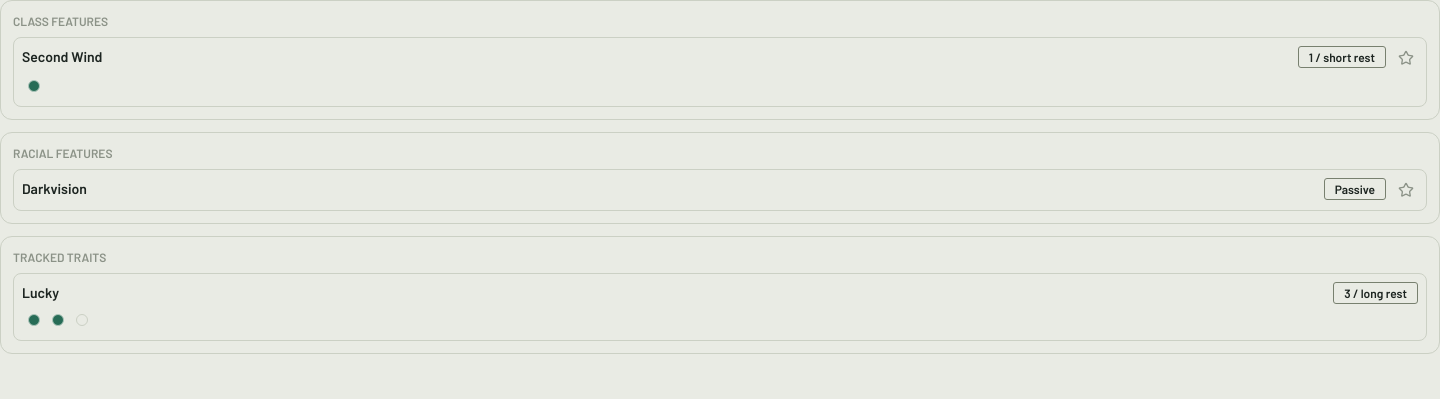
Test case: FeaturesTab › expands a description
What coordinates should you click on to do the following:
click the button "Darkvision Passive"
I would click on:
 (54, 188)
Its box is [22, 178, 1386, 200].
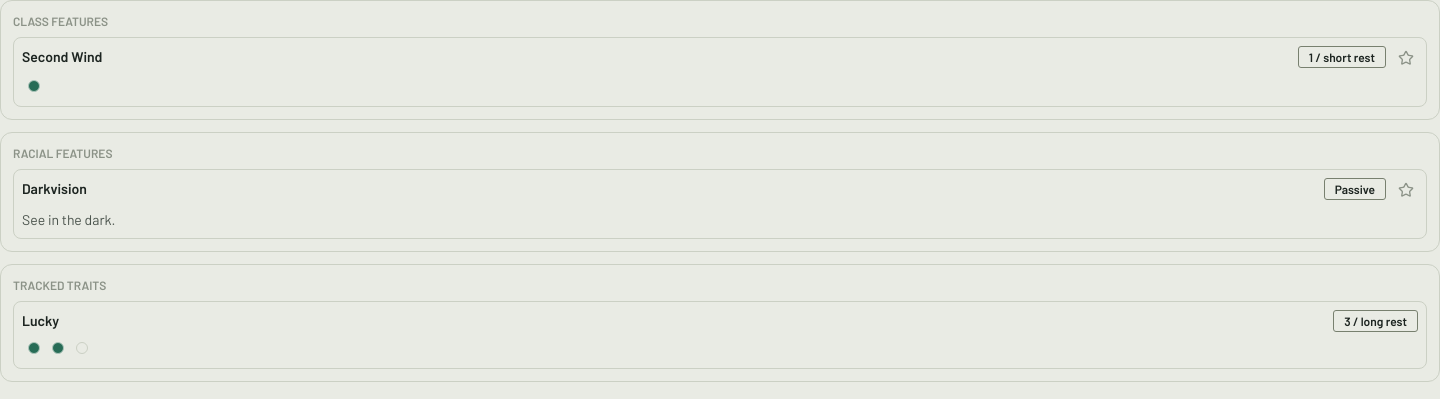
Expected: the text "See in the dark." is shown, [22, 211, 115, 228]
